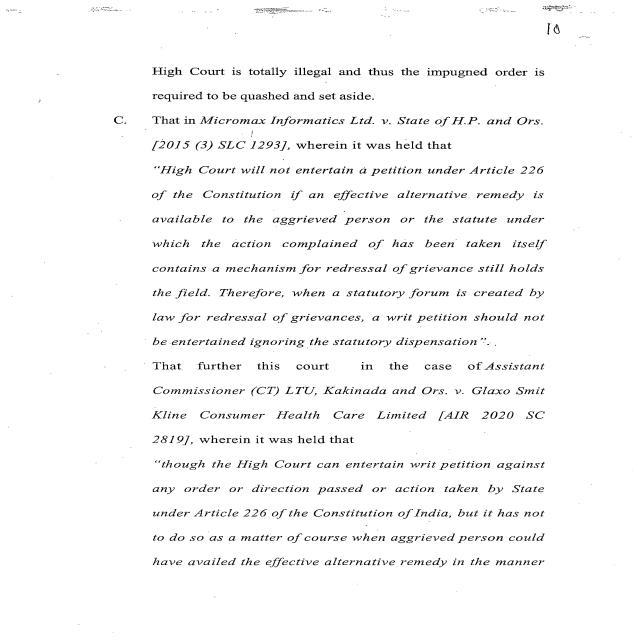page-number: (470, 0, 640, 65)
